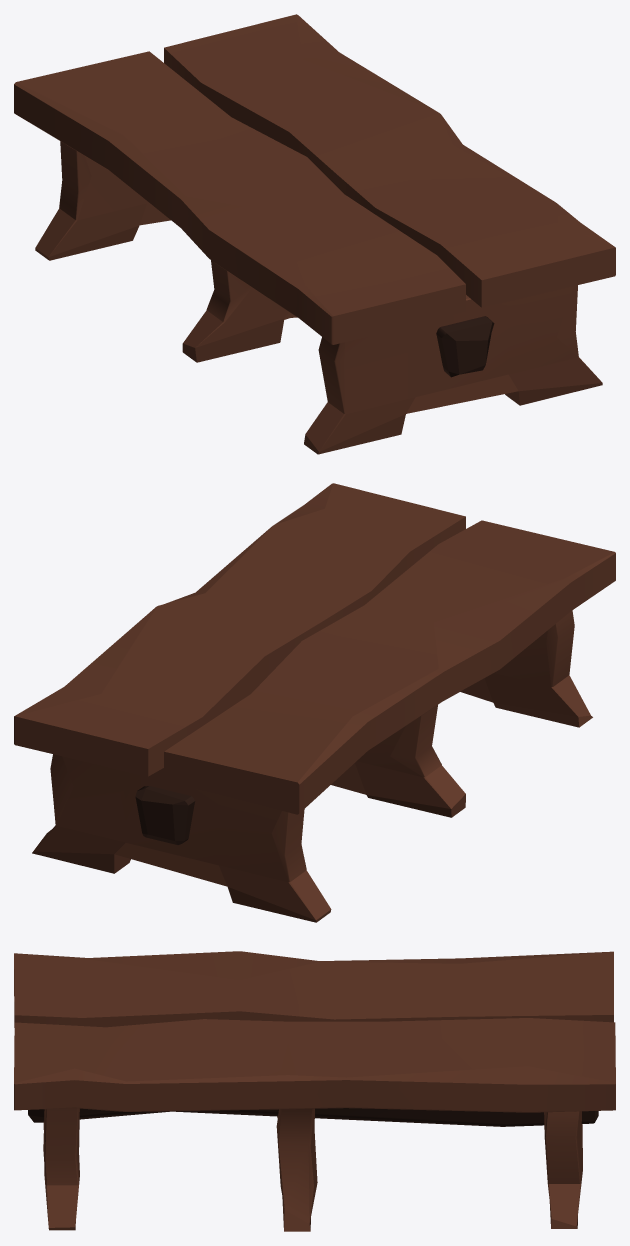
File: Low_Env_Table.fbx
3 renders of one model, top to bottom at view 1: azimuth 30°, elevation 25°; view 2: azimuth 150°, elevation 25°; view 3: azimuth 270°, elevation 25°, orthographic. The views are drawn at different scales.
Parts seen in each view (by area): view 1: Low_Env_Table; view 2: Low_Env_Table; view 3: Low_Env_Table.
Boxes of the visible parts, x1=… form: Low_Env_Table: x1=14, y1=14, x2=615, y2=454; Low_Env_Table: x1=14, y1=483, x2=615, y2=922; Low_Env_Table: x1=14, y1=951, x2=615, y2=1231.
Size of the model in its own units: 4.26 by 2.18 by 7.95.
